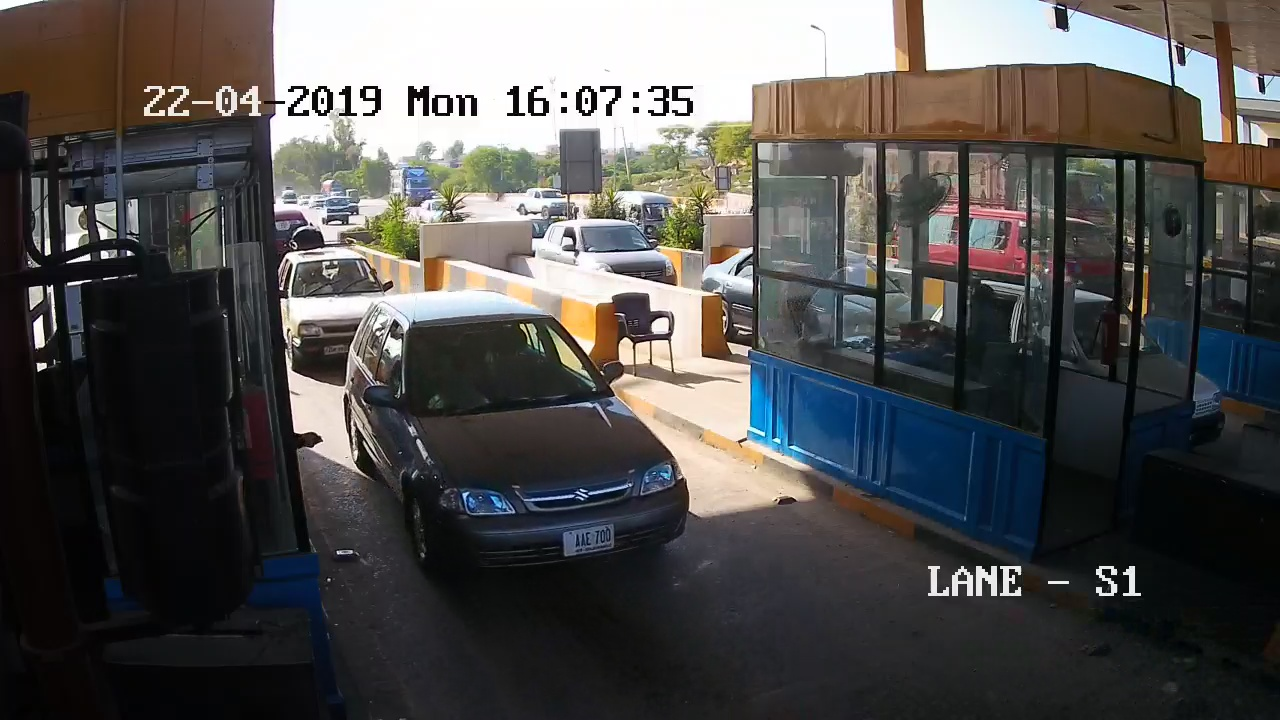Number Plate (Car): (561, 527, 614, 554), (322, 344, 350, 353)
